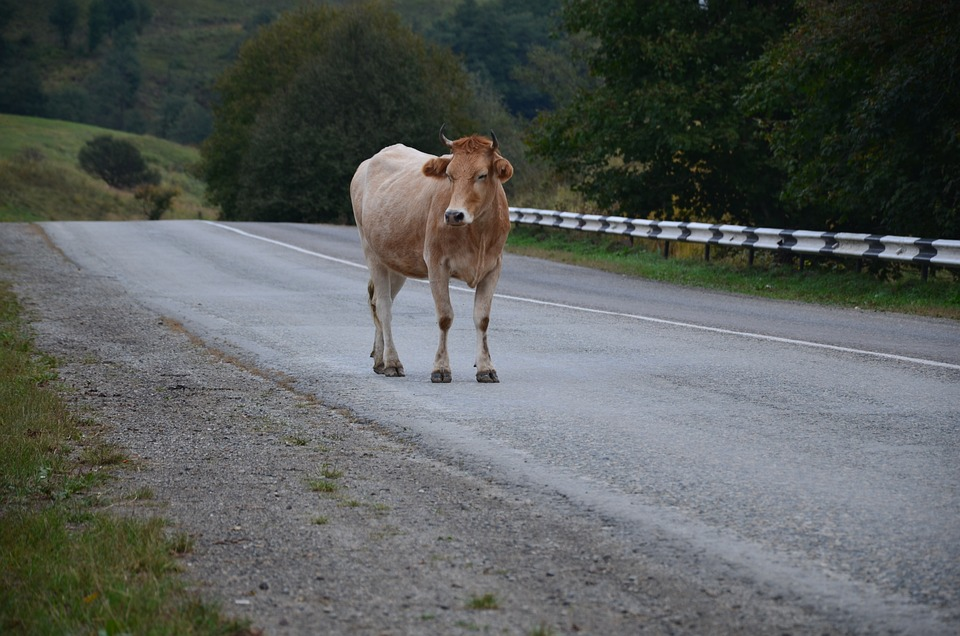inek: (336, 119, 558, 399)
